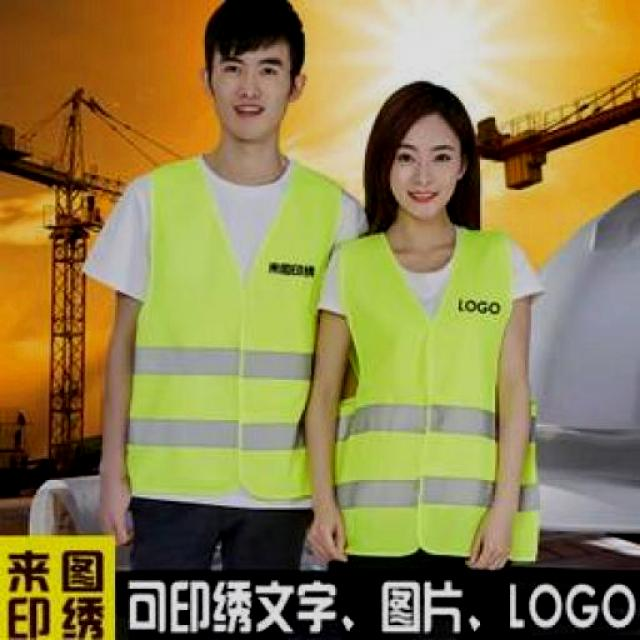face_nomask: (212, 43, 288, 126), (387, 140, 458, 210)
hand_noglove: (90, 476, 145, 550), (460, 508, 520, 572), (299, 499, 353, 566)
head_nohelmet: (200, 0, 308, 58), (372, 76, 476, 134)
person: (90, 1, 365, 579), (296, 71, 548, 574)
vest: (111, 160, 333, 508), (322, 224, 544, 557)
